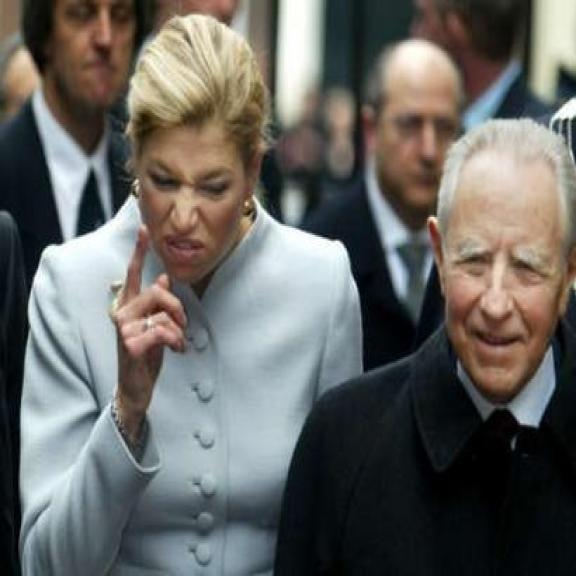face: (428, 170, 576, 398), (138, 119, 261, 288), (358, 71, 460, 210), (48, 0, 140, 117)
